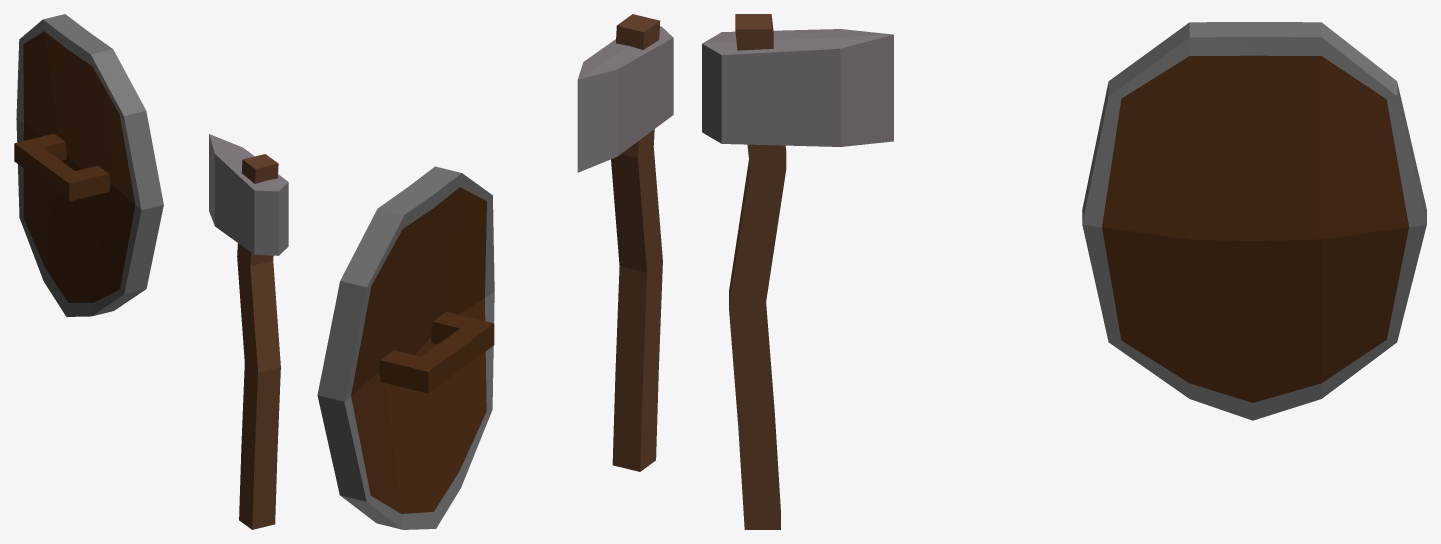
The model's file is EnemyWeapons.fbx.
3 renders of one model, left to right at view 1: azimuth 30°, elevation 25°; view 2: azimuth 150°, elevation 25°; view 3: azimuth 270°, elevation 25°, orthographic. The views are drawn at different scales.
Visible parts, largest first — view 1: EnemyShield, EnemyAxe; view 2: EnemyShield, EnemyAxe; view 3: EnemyShield, EnemyAxe.
Part boxes in pixels (x1,y1,x2,y2): EnemyShield: (14, 14, 163, 316); EnemyAxe: (209, 134, 288, 529); EnemyShield: (317, 166, 494, 529); EnemyAxe: (577, 14, 673, 471); EnemyShield: (1082, 22, 1426, 420); EnemyAxe: (702, 14, 893, 529).
Bounding box in the file's own units: 17.64 × 95.85 × 126.
